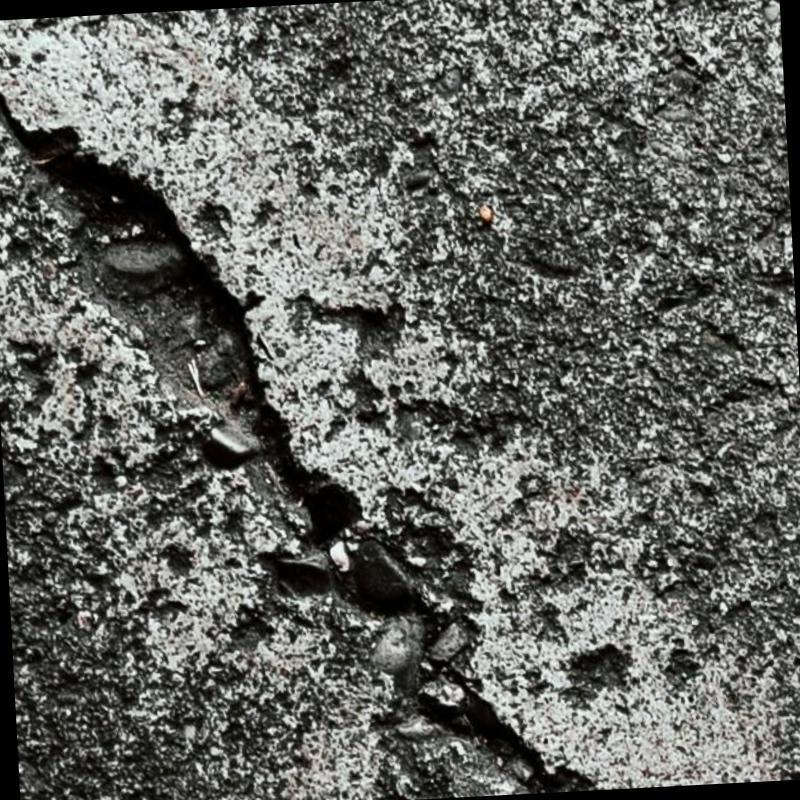crack: (0, 94, 568, 790)
